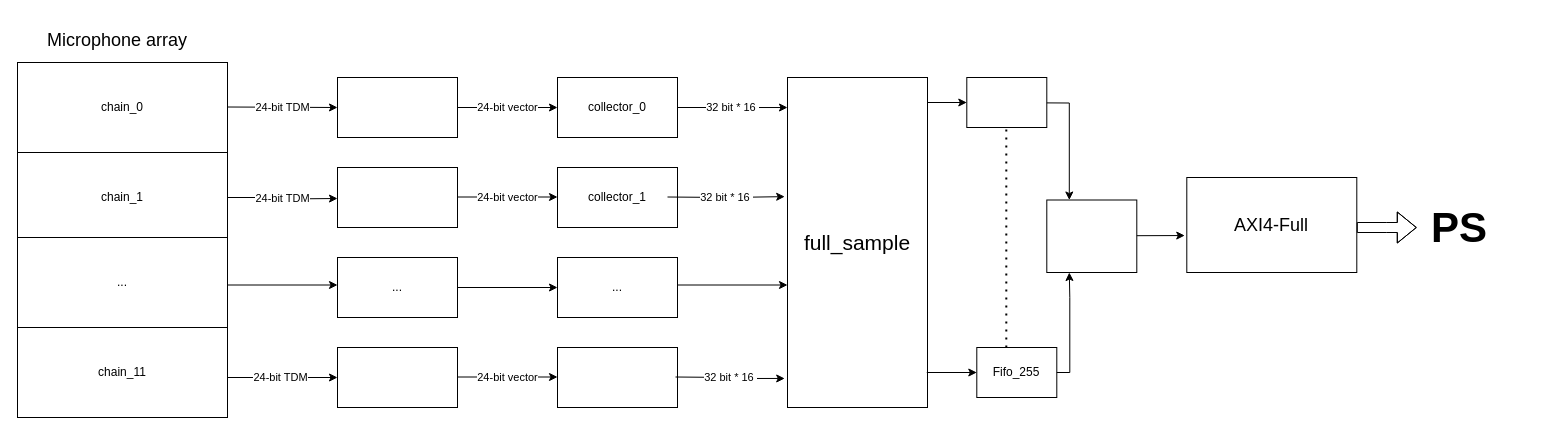
Image size: 1544x435. Some labels were removed from this diagram. The centre of each missing label's shape, as x and y in pixels:
collector_11: the point at 617,377
Fifo_0: the point at 1006,102
MUX: the point at 1091,235
sample_0: the point at 397,107
sample_1: the point at 397,197
sample_11: the point at 397,377
